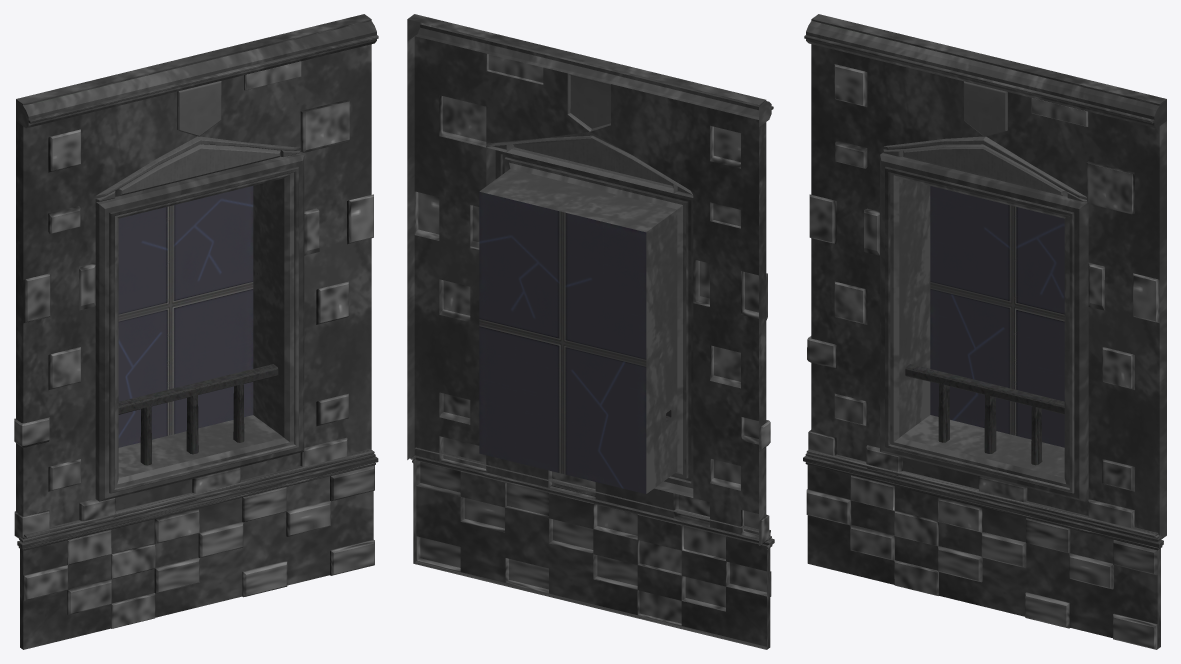
The model's file is Buildings_RailedWindow 1.FBX.
The picture shows the model from 3 angles, left to right: view 1: azimuth 30°, elevation 25°; view 2: azimuth 150°, elevation 25°; view 3: azimuth 330°, elevation 25°; orthographic projection.
Parts seen in each view (by area): view 1: polySurface66; view 2: polySurface66; view 3: polySurface66.
Part boxes in pixels (x1,y1,x2,y2): polySurface66: [14, 14, 378, 649]; polySurface66: [407, 14, 774, 649]; polySurface66: [803, 14, 1166, 649].
Bounding box in the file's own units: 66.01 × 11.03 × 96.32.
1 material, 1 textured.
